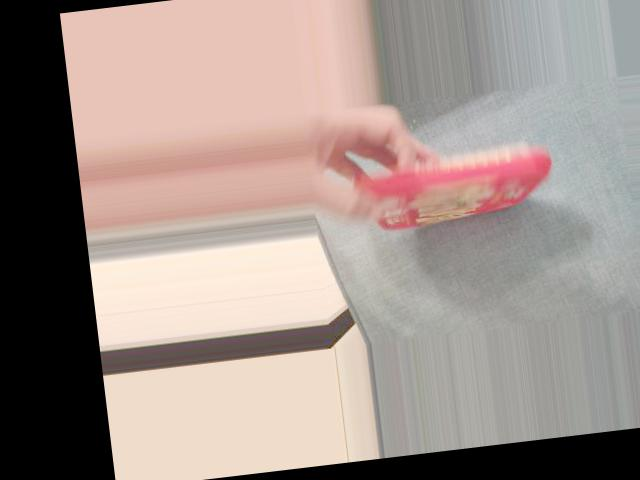cheese: (354, 143, 550, 226)
